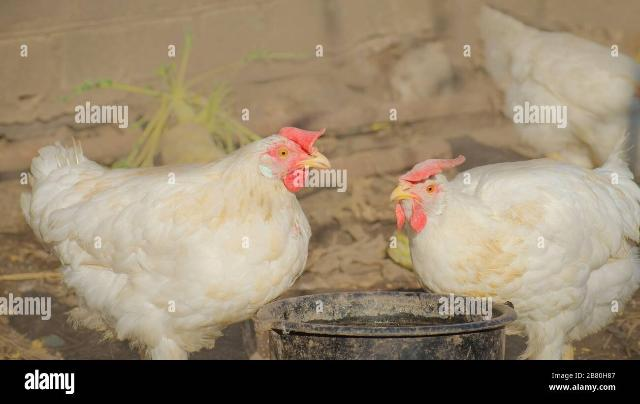Chicken: (21, 126, 332, 358), (390, 154, 640, 361)
